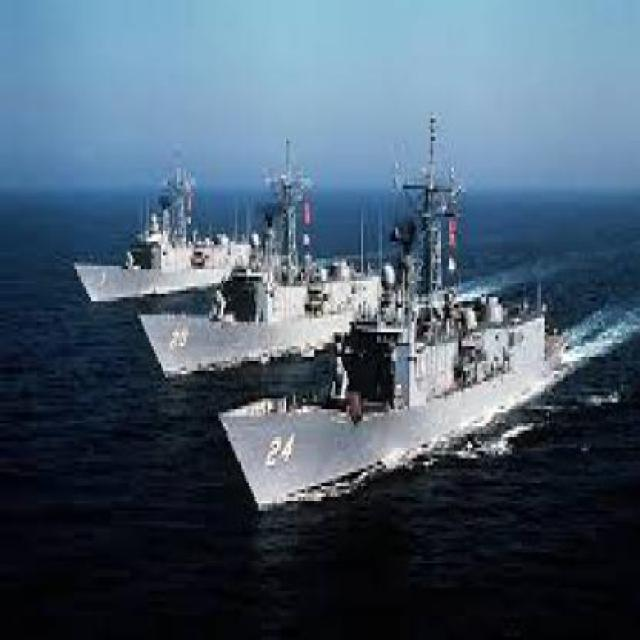warship2: (233, 249, 578, 540), (140, 172, 379, 410), (79, 158, 241, 333)
